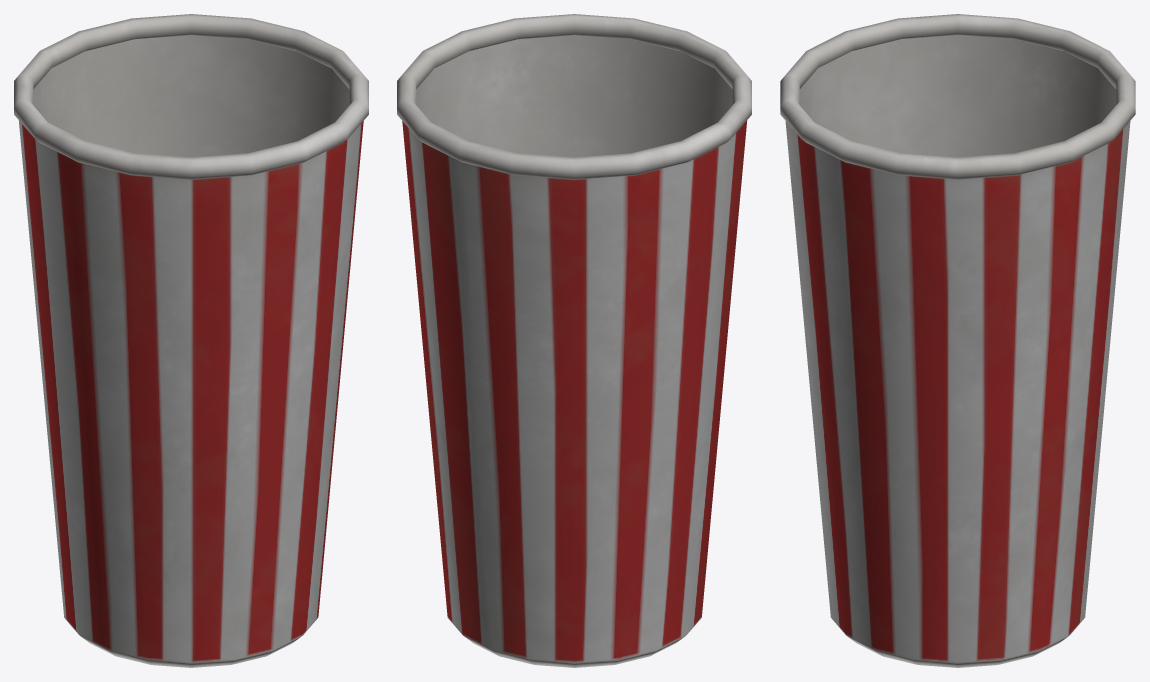
File: PaperCup.FBX
3 renders of one model, left to right at view 1: azimuth 30°, elevation 25°; view 2: azimuth 150°, elevation 25°; view 3: azimuth 270°, elevation 25°, orthographic.
Visible parts, largest first — view 1: PaperCup; view 2: PaperCup; view 3: PaperCup.
Part boxes in pixels (x1,y1,x2,y2): PaperCup: [14, 14, 368, 667]; PaperCup: [397, 14, 751, 667]; PaperCup: [780, 14, 1135, 667].
Bounding box in the file's own units: 8.41 × 13.67 × 8.29.
